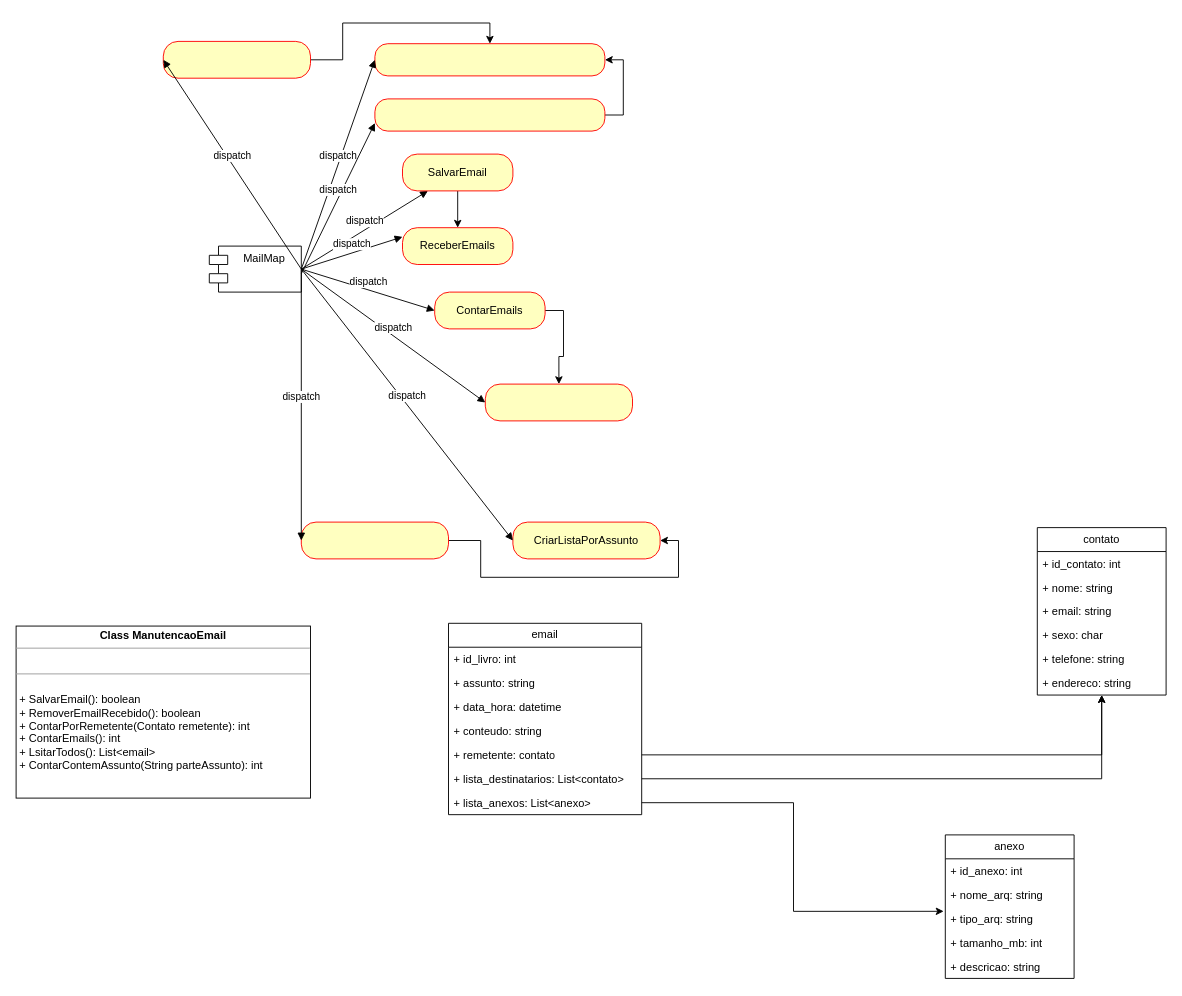
The diagram is 1182 pixels wide and 996 high, and some of its shapes have lost their labels. The shapes that lost their labels are listed below. From the top down, each one's centre as x and y in pixels, then its label:
At [236,59]: "ExcluirEmailsPorData".
At [489,59]: "ExcluirEmailsQueAssuntoContenha".
At [489,114]: "ExcluirEmailsPorEnderecoAntesDe".
At [558,402]: "ContarEmailsPorRemetente".
At [374,540]: "CriarListaRecebidosHoje".
